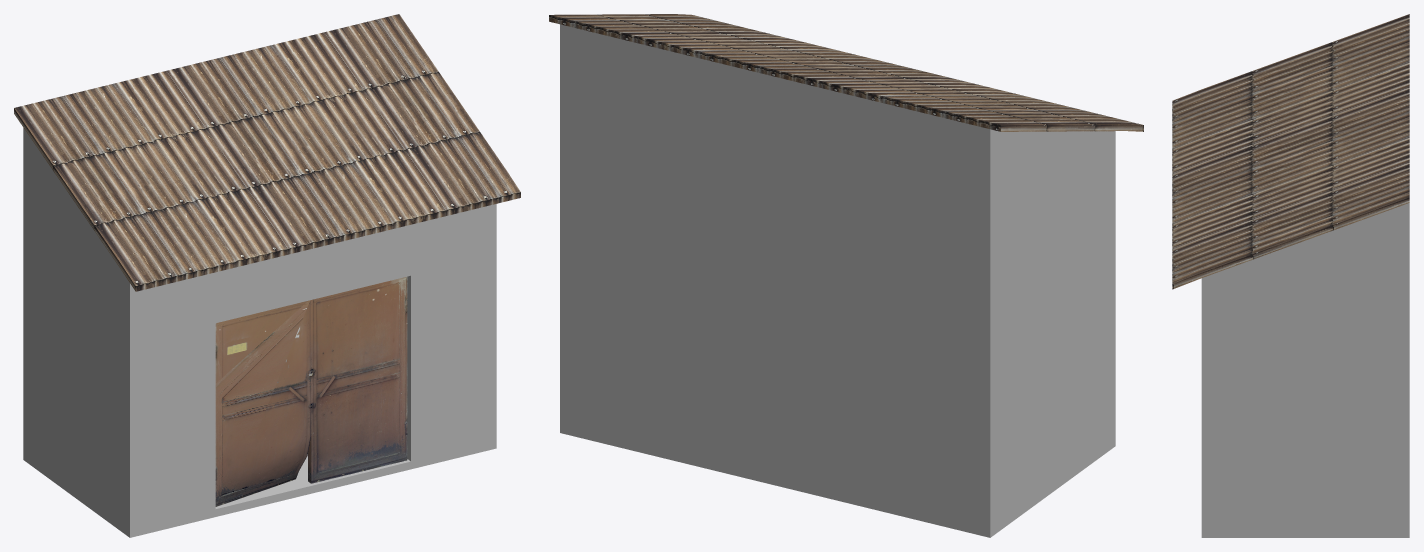
The model's file is house_entrance03_lod2.fbx.
3 views of the same model, side by side, from view 1: azimuth 30°, elevation 25°; view 2: azimuth 150°, elevation 25°; view 3: azimuth 270°, elevation 25° (orthographic). The views are drawn at different scales.
Parts seen in each view (by area): view 1: Mesh Object; view 2: Mesh Object; view 3: Mesh Object.
Boxes of the visible parts, x1=… form: Mesh Object: x1=14, y1=14, x2=520, y2=537; Mesh Object: x1=549, y1=14, x2=1143, y2=537; Mesh Object: x1=1172, y1=14, x2=1409, y2=537.
Bounding box in the file's own units: 6.77 × 5.95 × 3.7.
